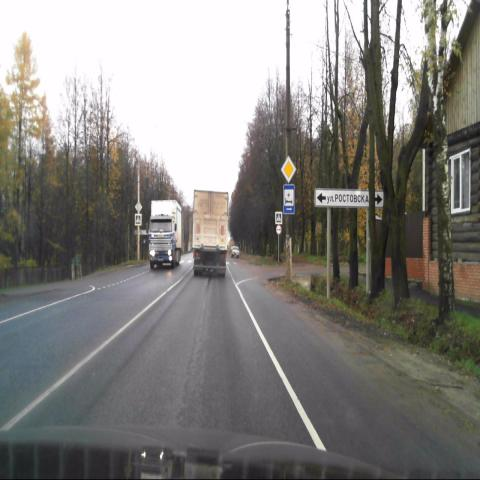2_1: (281, 156, 296, 182)
5_19_1: (275, 212, 282, 224), (134, 214, 141, 226)
7_2: (284, 184, 294, 214)
